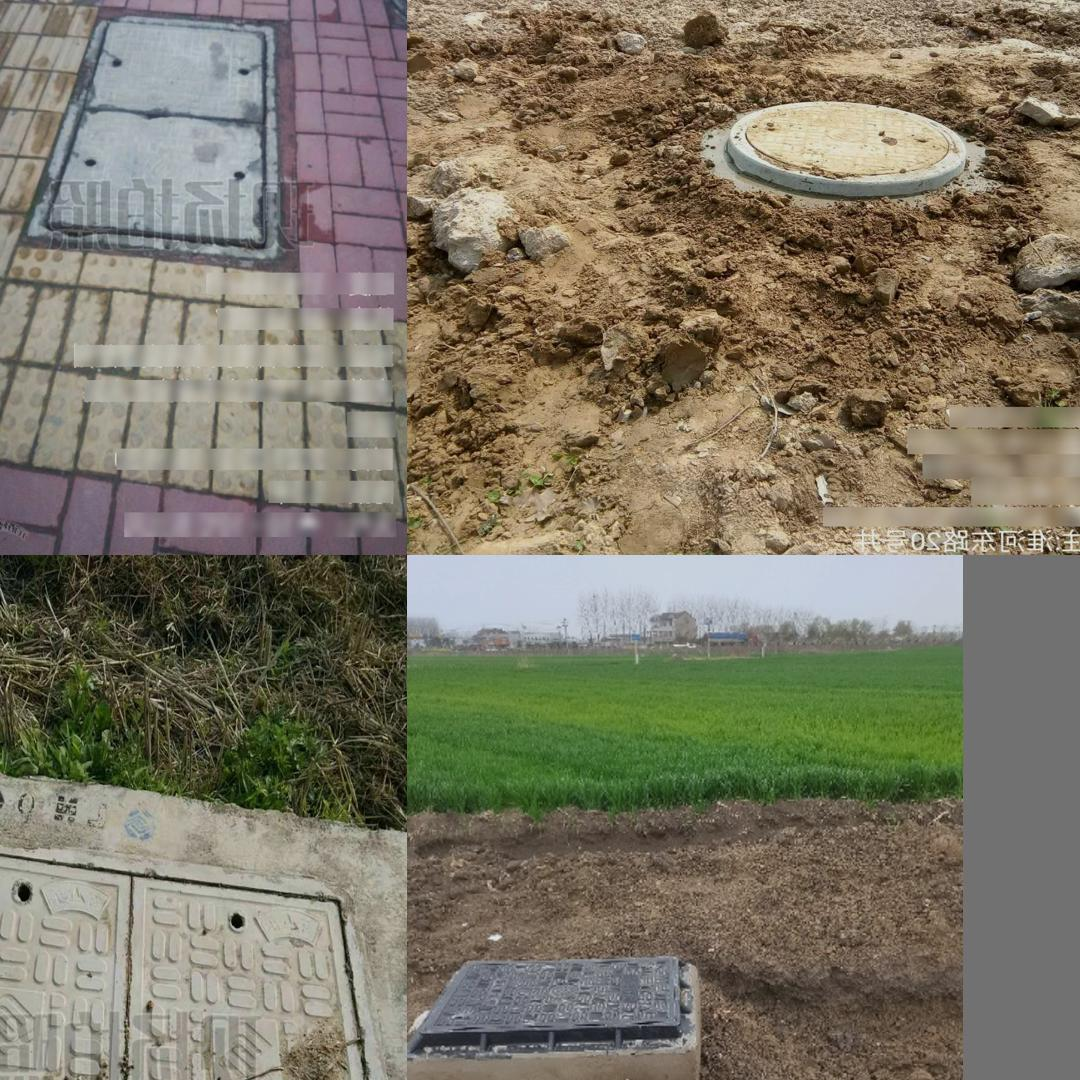good: (0, 817, 405, 1080), (25, 13, 276, 256), (414, 949, 699, 1035), (707, 94, 968, 184)
